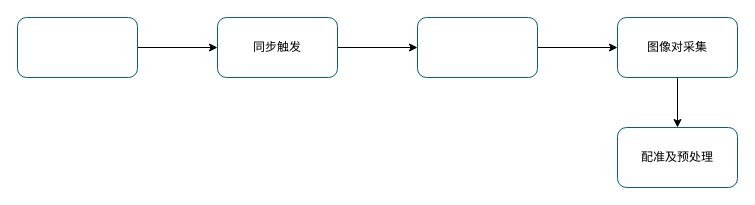
This 755x205 diagram has some shape labels left out. Each missing label, with the centre of its shape:
"几何校准" goes at (477,47).
"短波红外相机+ 可见光相机" goes at (77,47).
